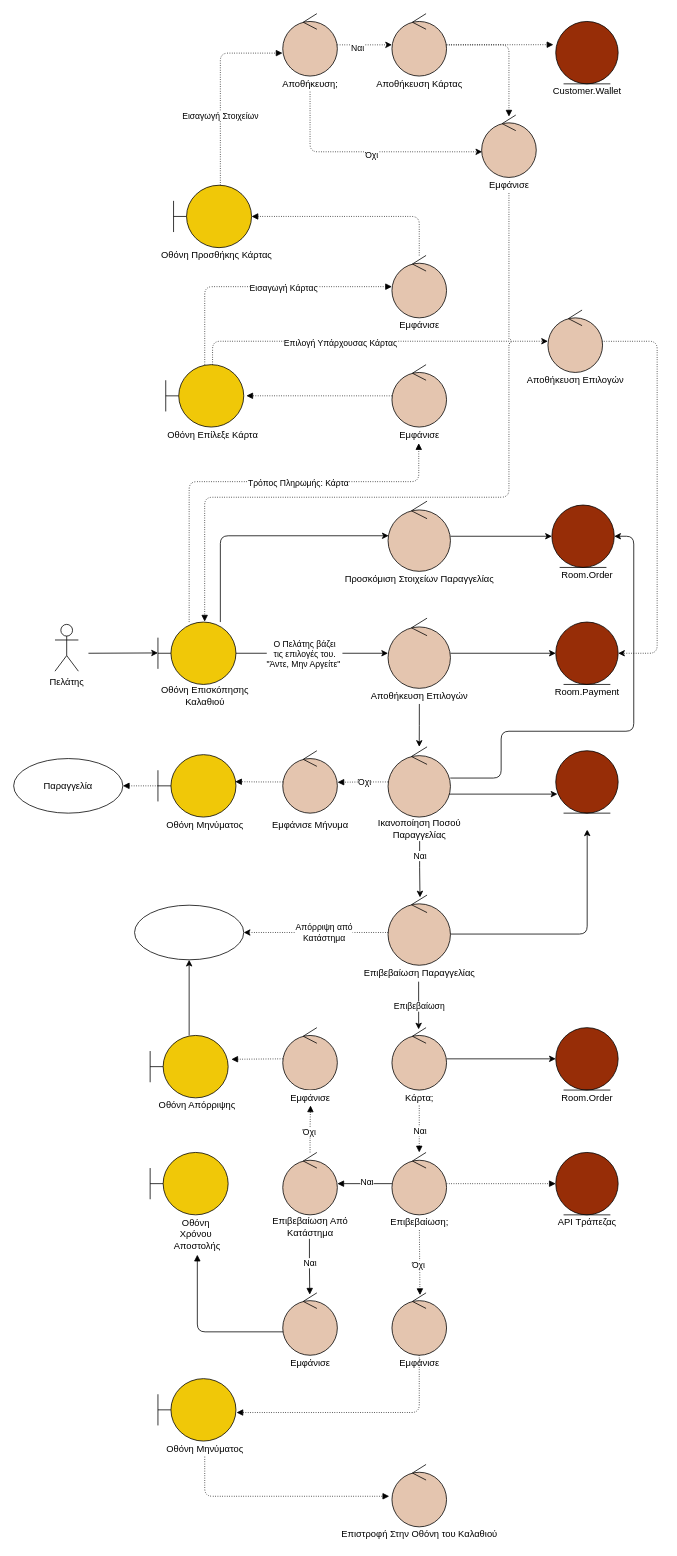
The diagram is 677 pixels wide and 1556 high, and some of its shapes have lost their labels. The centre of each missing label's shape, as x and y in pixels:
Shop: [586,822]
Αρχική Οθόνη: [189,932]
